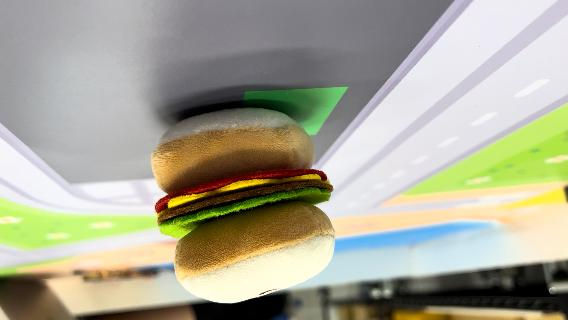sandwich: (148, 104, 340, 304)
